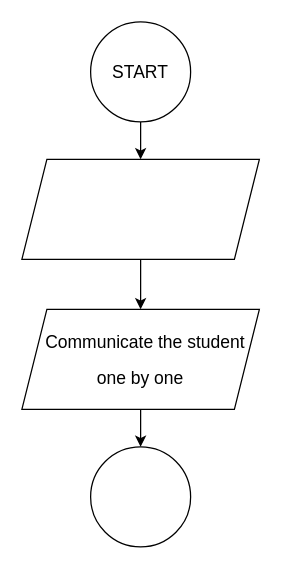
Some shapes in this 281 by 569 pixel diagram are drawn without their labels. Here are the shapes that lost their labels. From the top down, the centre of each, then its label:
pixel 140 208: Get the list of alumni
pixel 140 496: END
